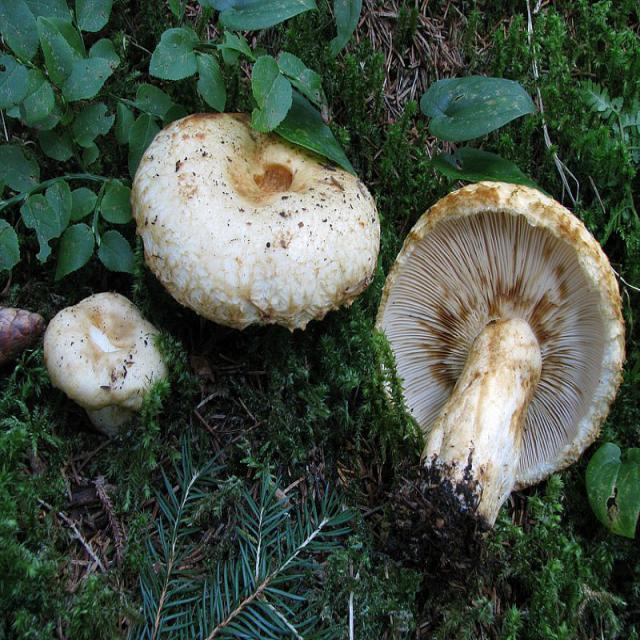Armillaria mellea: (375, 178, 624, 570), (134, 111, 379, 332), (46, 288, 171, 427)
